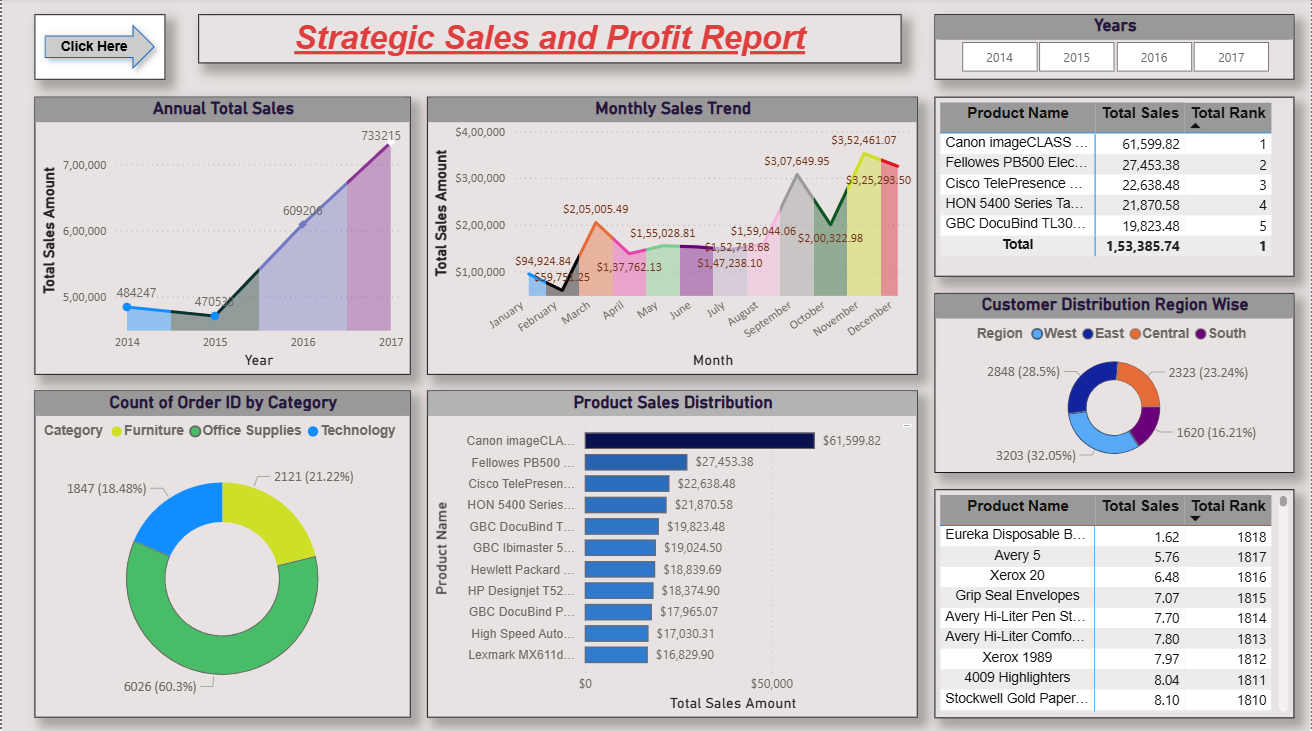

The dashboard page shown, as its layout file describes it:
{"tool":"powerbi","page":{"name":"Report 3","canvas":[1280,720],"ordinal":2},"visuals":[{"type":"lineChart","title":"Annual Total Sales","fields":{"Y":["Sum(Orders.Sales)"],"Category":["Orders.Order Date.Variation.Date Hierarchy.Year"]},"box":[32,96,368,272],"z":0},{"type":"lineChart","title":"Monthly Sales Trend","fields":{"Y":["Sum(Orders.Sales)"],"Category":["Orders.Order Date.Variation.Date Hierarchy.Month"]},"box":[416,96,480,272],"z":1000},{"type":"barChart","title":"Product Sales Distribution ","fields":{"Category":["Orders.Product Name"],"Y":["Sum(Orders.Sales)"]},"box":[416,384,480,320],"z":2000},{"type":"donutChart","fields":{"Series":["Orders.Category"],"Y":["CountNonNull(Orders.Order ID)"]},"box":[32,384,368,320],"z":3000},{"type":"pivotTable","fields":{"Rows":["Orders.Product Name"],"Values":["Orders.Total Sales","Orders.Total Rank"]},"box":[912,480,352,224],"z":4000},{"type":"slicer","title":"Years","fields":{"Values":["Orders.Order Date.Variation.Date Hierarchy.Year"]},"box":[912,16,352,64],"z":5000},{"type":"shape","box":[32,16,128,64],"z":6000},{"type":"pivotTable","fields":{"Rows":["Orders.Product Name"],"Values":["Orders.Total Sales","Orders.Total Rank"]},"box":[912,96,352,176],"z":7000},{"type":"pieChart","title":"Customer Distribution Region Wise","fields":{"Y":["CountNonNull(Orders.Customer ID)"],"Category":["Orders.Region"]},"box":[912,288,352,176],"z":8000},{"type":"textbox","box":[192,16,688,48],"z":9000}]}

Visuals, with their boxes in screenshot pixels (x1, y1, x2, y2), scaled from the page's 1280x720 canvas onto the 1312x731 screenshot:
"Annual Total Sales" lineChart: box=[33, 97, 410, 374]
"Monthly Sales Trend" lineChart: box=[426, 97, 918, 374]
"Product Sales Distribution " barChart: box=[426, 390, 918, 715]
donutChart - Orders.Category x CountNonNull(Orders.Order ID): box=[33, 390, 410, 715]
pivotTable - Orders.Product Name x Orders.Total Sales: box=[935, 487, 1296, 715]
"Years" slicer: box=[935, 16, 1296, 81]
shape: box=[33, 16, 164, 81]
pivotTable - Orders.Product Name x Orders.Total Sales: box=[935, 97, 1296, 276]
"Customer Distribution Region Wise" pieChart: box=[935, 292, 1296, 471]
textbox: box=[197, 16, 902, 65]
